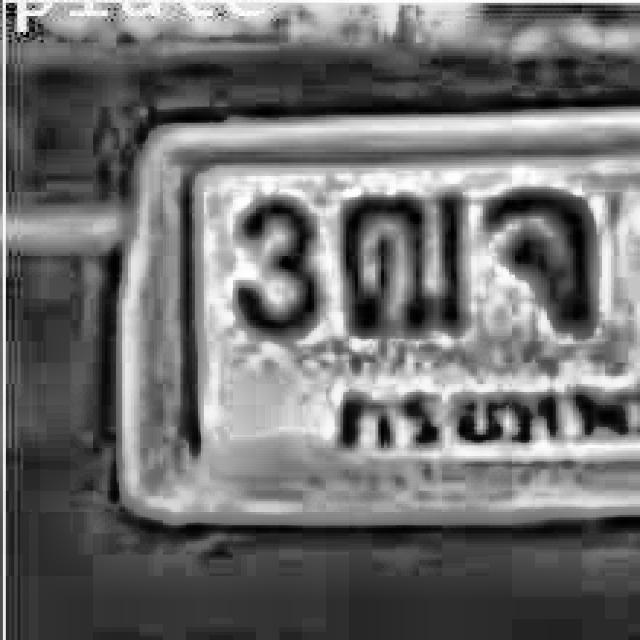license-plate: (96, 99, 640, 522)
